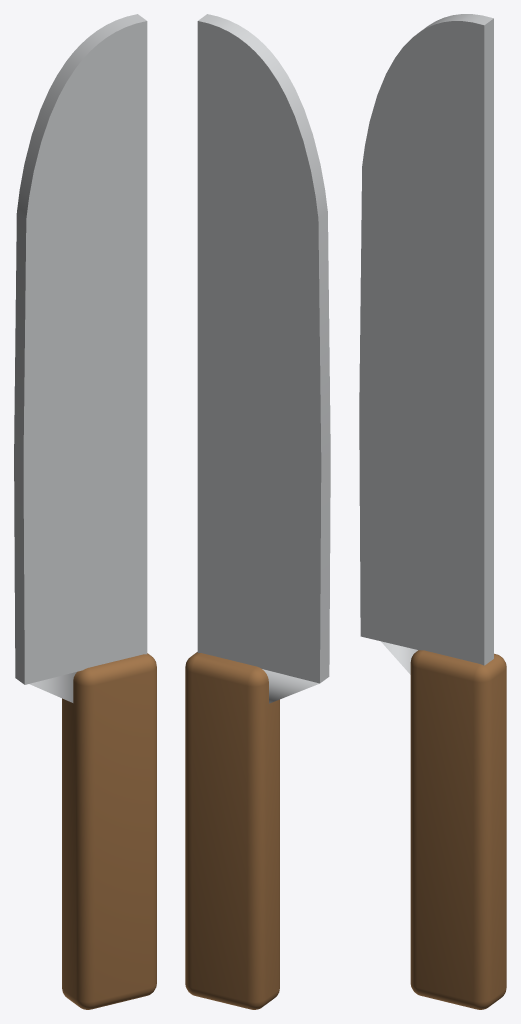
File: knife.fbx
3 renders of one model, left to right at view 1: azimuth 30°, elevation 25°; view 2: azimuth 150°, elevation 25°; view 3: azimuth 330°, elevation 25°, orthographic.
Parts seen in each view (by area): view 1: knife; view 2: knife; view 3: knife.
Part boxes in pixels (<box>): knife: <box>14,14,156,1009</box>; knife: <box>185,14,330,1009</box>; knife: <box>359,14,506,1009</box>.
Bounding box in the file's own units: 111 × 784 × 38.
